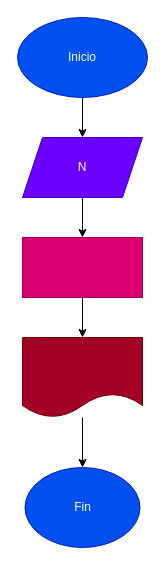
The diagram is 165 pixels wide and 565 high, and some of its shapes have lost their labels. Each missing label, with the centre of its shape:
"El rsultado de la suma es:" goes at point (82, 377).
"Suma= N(N+1)/2" goes at point (82, 267).
